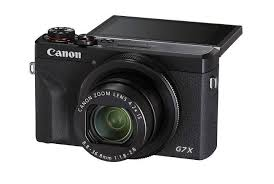camera: (34, 28, 216, 160)
